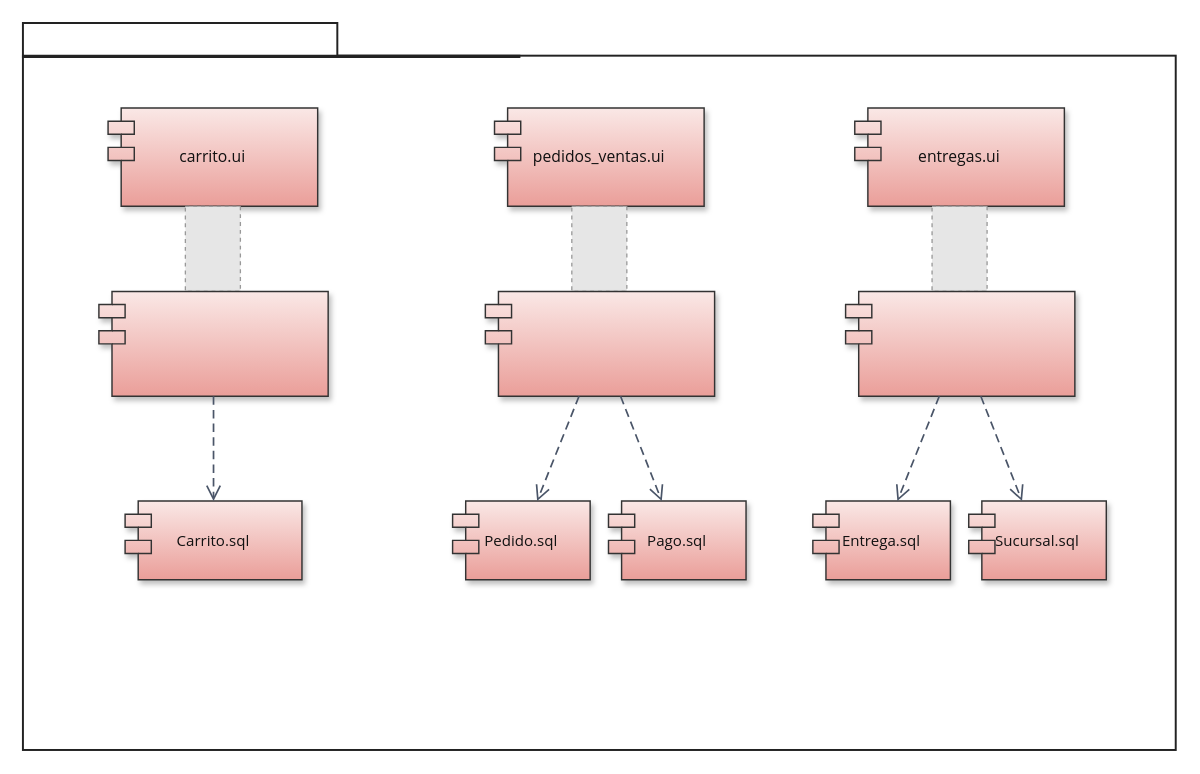
Image size: 1200x774. Some labels were removed from this diagram. Grey dashed boxes stand in for pictures. Here are the shapes that lost their labels. From the top down, the centre of each, then its label:
the point at 270,39: cmp Subsistemas - Comercial y Transaccional
the point at 214,345: carrito.controller
the point at 601,345: pedidos.controller
the point at 961,345: entregas.controller
